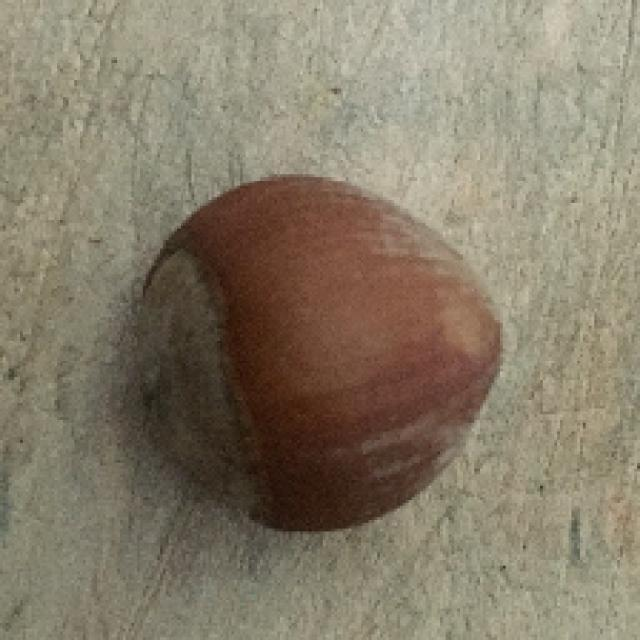qualityHazelnut: (138, 172, 500, 536)
